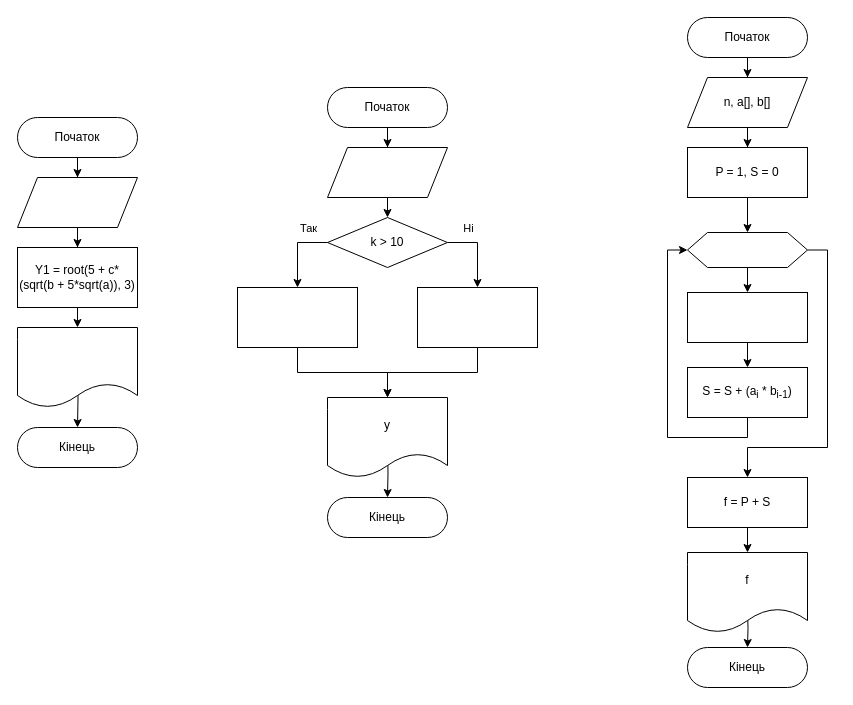
This 853x705 diagram has some shape labels left out. The shapes that lost their labels are listed below. From the top down, each one's centre as x and y in pixels, then its label:
At (x=387, y=172): "k, d".
At (x=77, y=202): "a, b, c".
At (x=747, y=250): "i = 1; n; 1".
At (x=297, y=317): "y = sqrt(k*sqrt(d^2) + d * sqrt(k^2))".
At (x=477, y=317): "y = (k+d)^2".
At (x=747, y=317): "P = P * (a i-1 + b i )".
At (x=77, y=367): "Y1".
